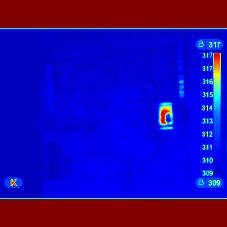Medium: (151, 99, 184, 136)
